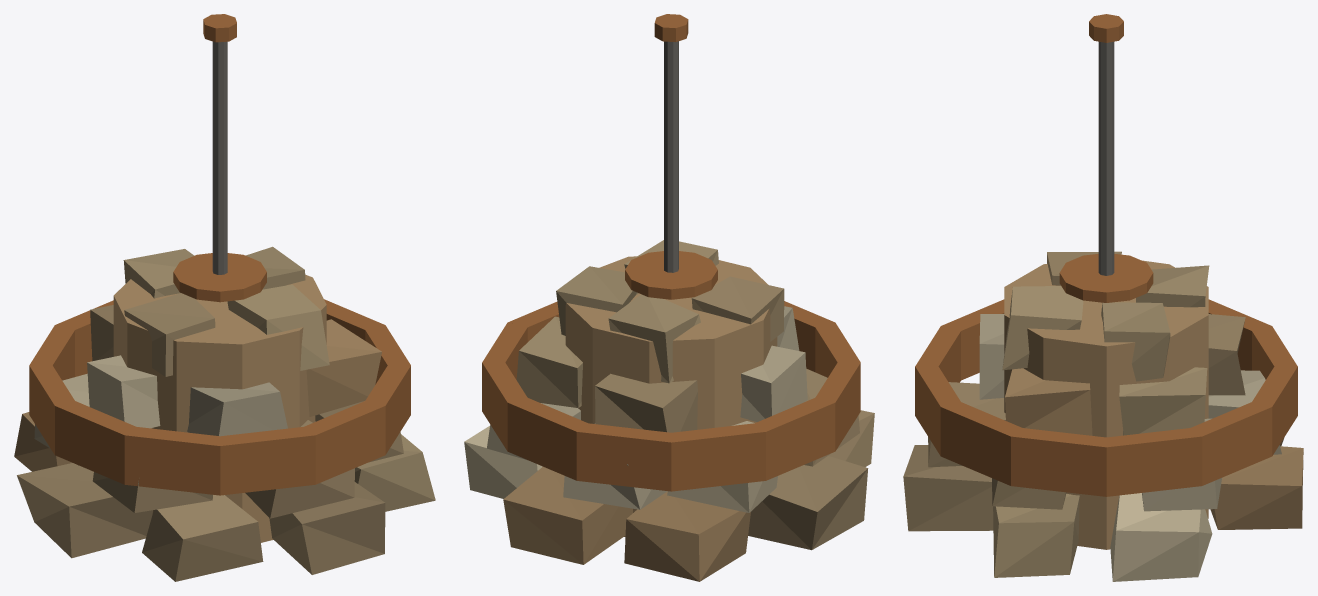
The model's file is dam_survey_benchmark.glb.
The picture shows the model from 3 angles, left to right: view 1: azimuth 30°, elevation 25°; view 2: azimuth 150°, elevation 25°; view 3: azimuth 270°, elevation 25°; orthographic projection.
Parts seen in each view (by area): view 1: dam_survey_benchmark; view 2: dam_survey_benchmark; view 3: dam_survey_benchmark.
Part boxes in pixels (x1=…): dam_survey_benchmark: x1=14, y1=14, x2=435, y2=581; dam_survey_benchmark: x1=464, y1=14, x2=874, y2=581; dam_survey_benchmark: x1=903, y1=14, x2=1303, y2=581.
Size of the model in its own units: 2.02 by 2.73 by 2.05.
